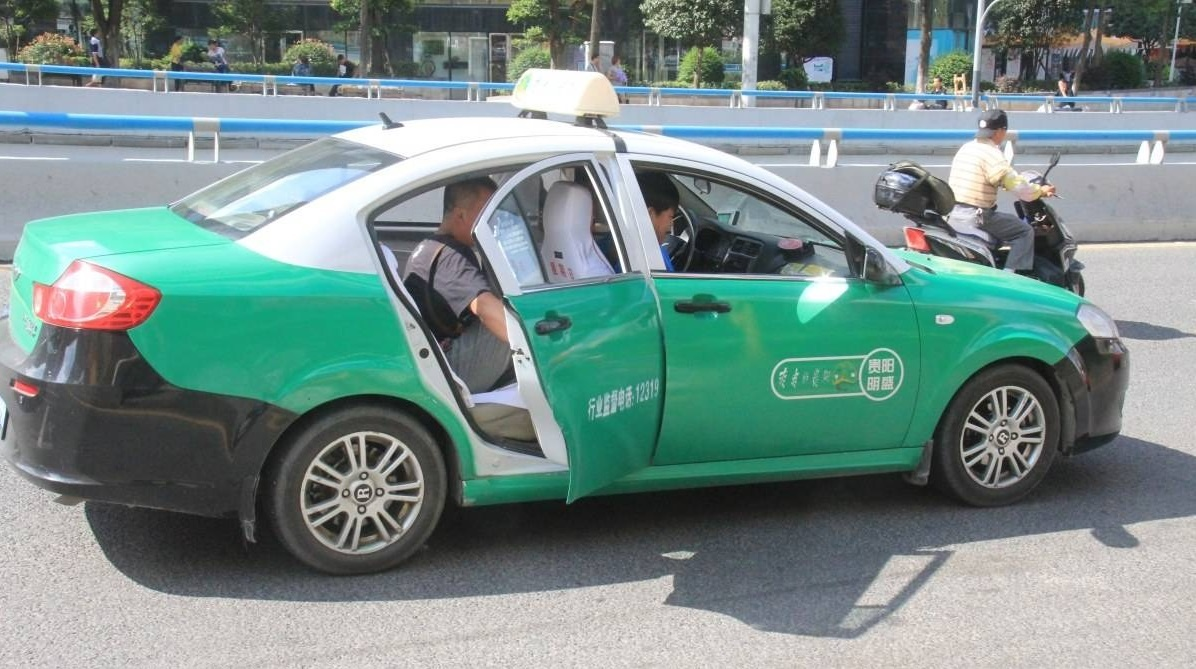taxi: (30, 81, 1137, 569)
